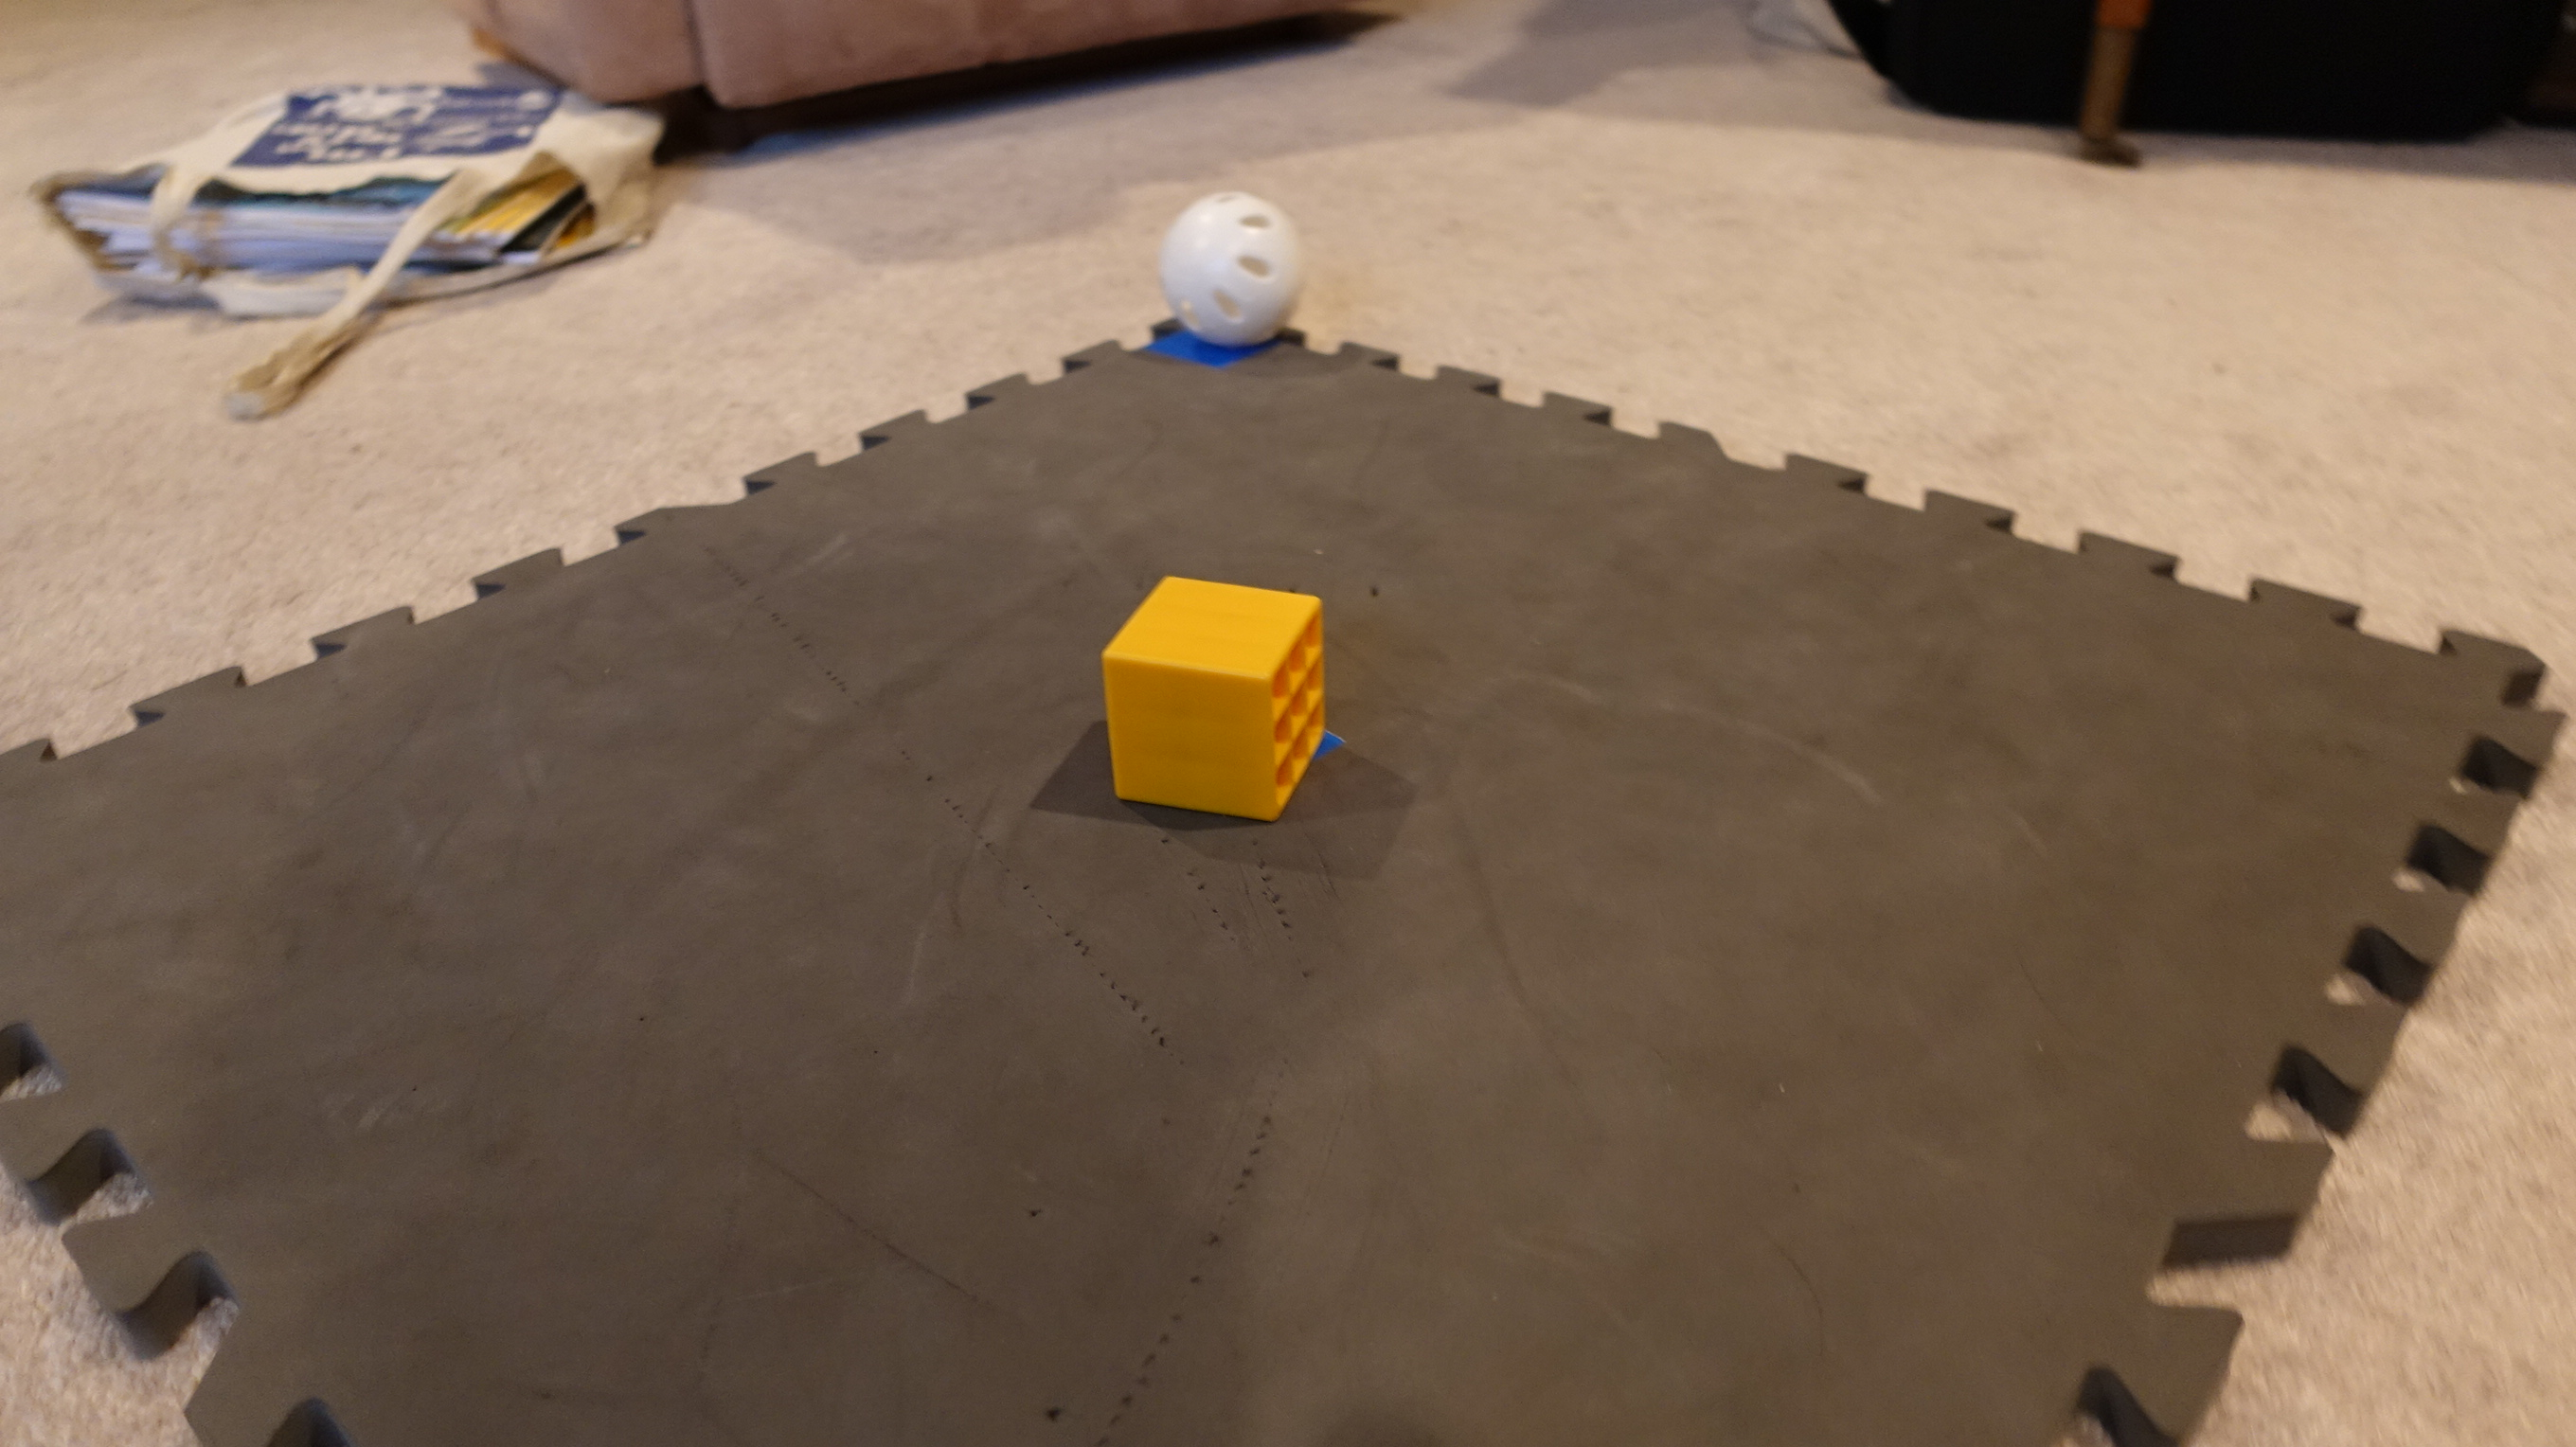gold: (1093, 575, 1345, 823)
silver: (1157, 191, 1306, 354)
